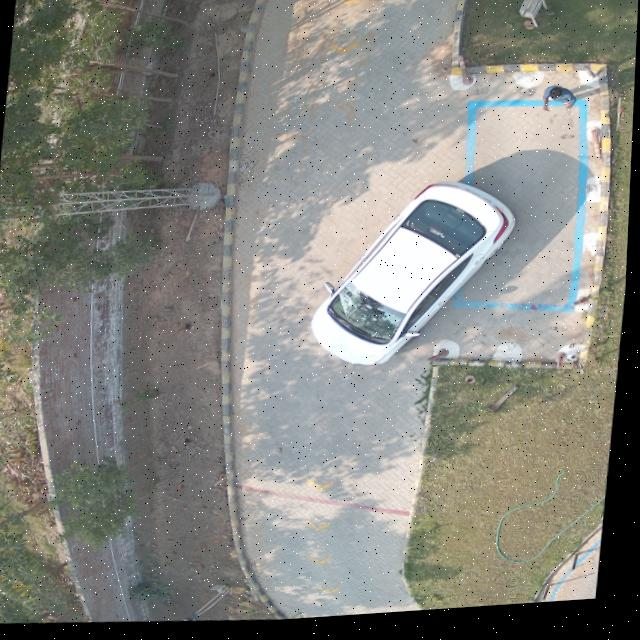car: (314, 187, 518, 371)
